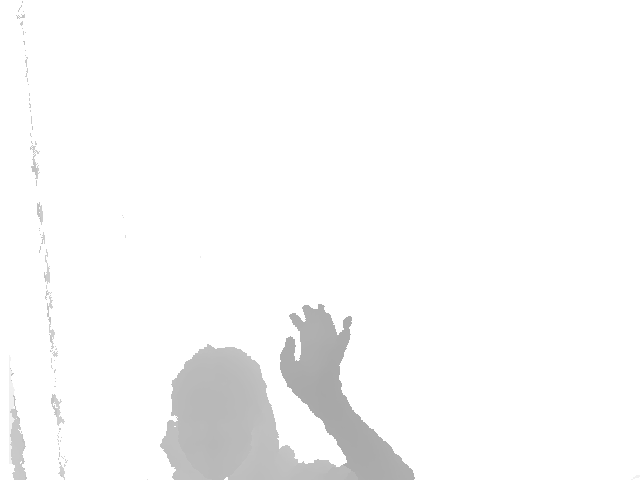hand: (280, 304, 353, 389)
head: (161, 342, 280, 480)
person: (161, 304, 415, 480)
